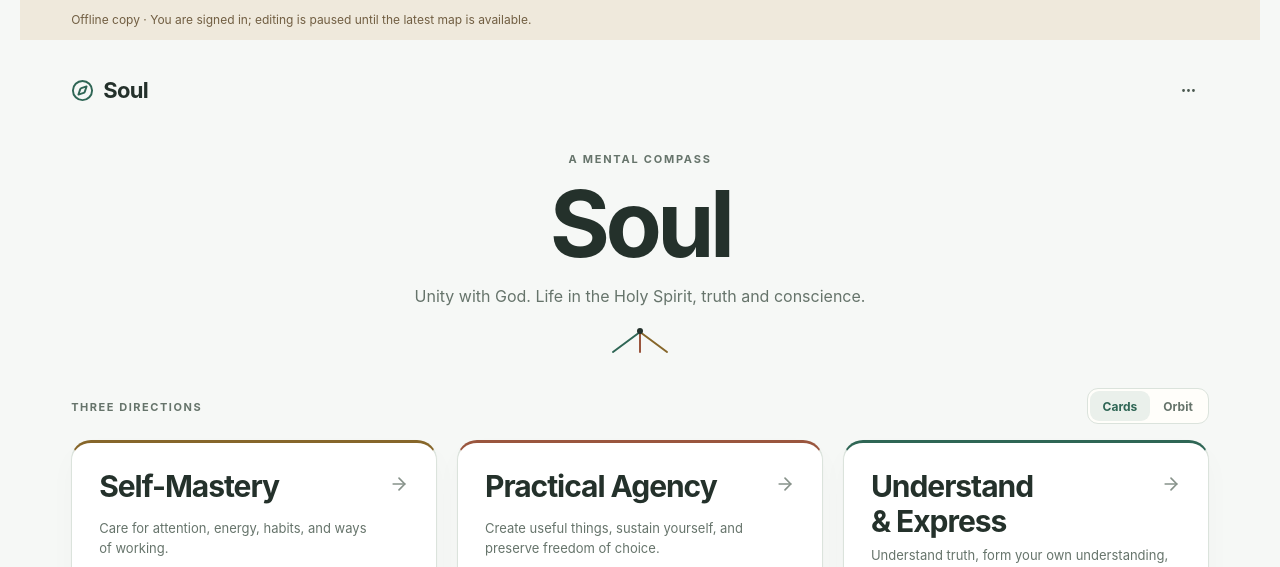
Soul compass › tells a signed-in owner on an offline copy that they are signed in, and offers Sign out, not sign in
The width and height of the screenshot is (1280, 567).
Expected: the text "Offline copy" shows "Offline copy · You are signed in; editing is paused until the latest map is available.", [20,0,1260,40]
Click the button named "More options": x=1188, y=90 [1168,68,1209,112]
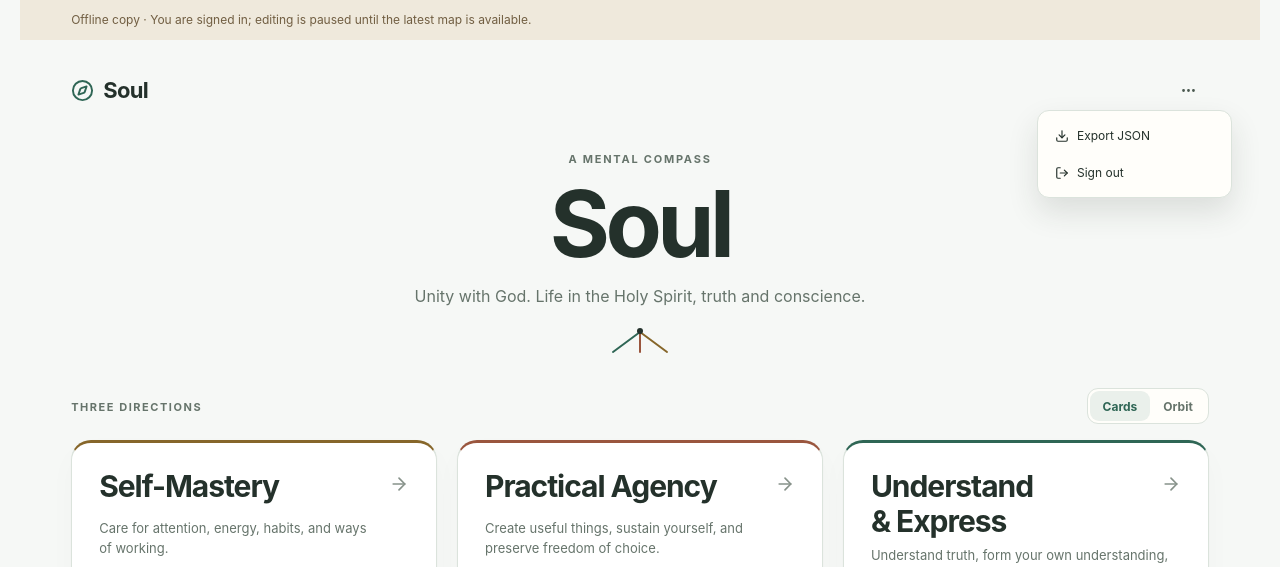
Expected: the button "Sign out" is shown, [1044,154,1225,191]
